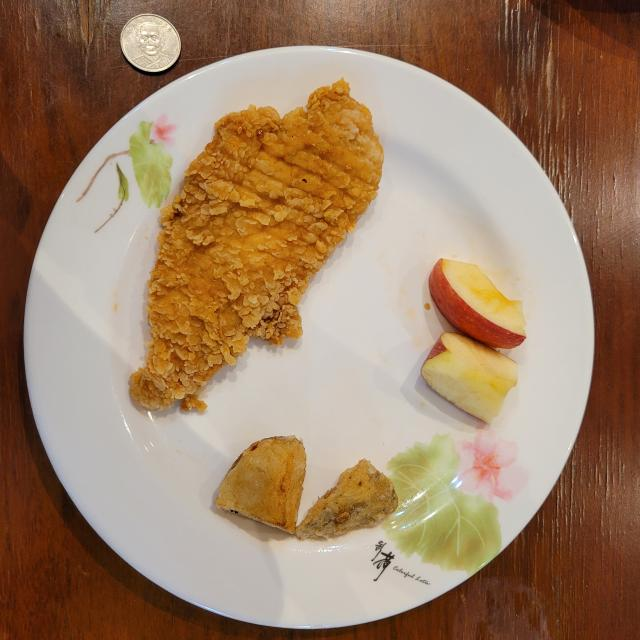apple -sliced-: (421, 259, 526, 422)
coin: (120, 14, 181, 72)
fried chicken cutlet: (130, 79, 384, 412)
fried potato: (215, 436, 398, 539)
